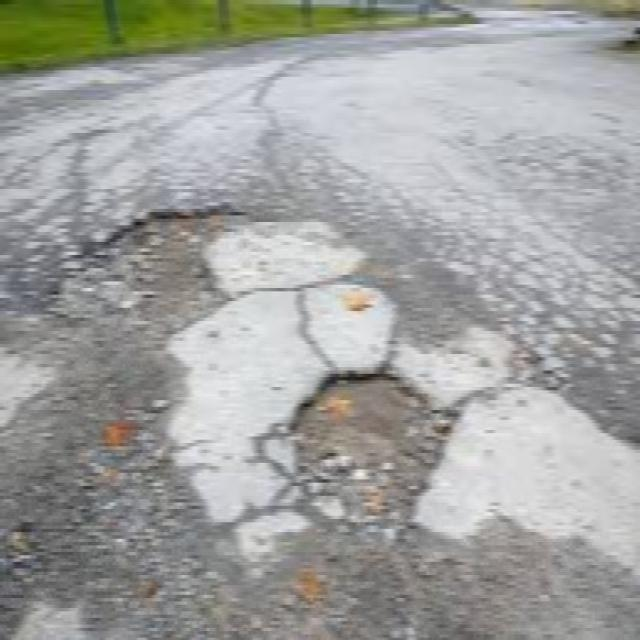Pothole: (266, 353, 446, 521), (102, 190, 262, 272)
